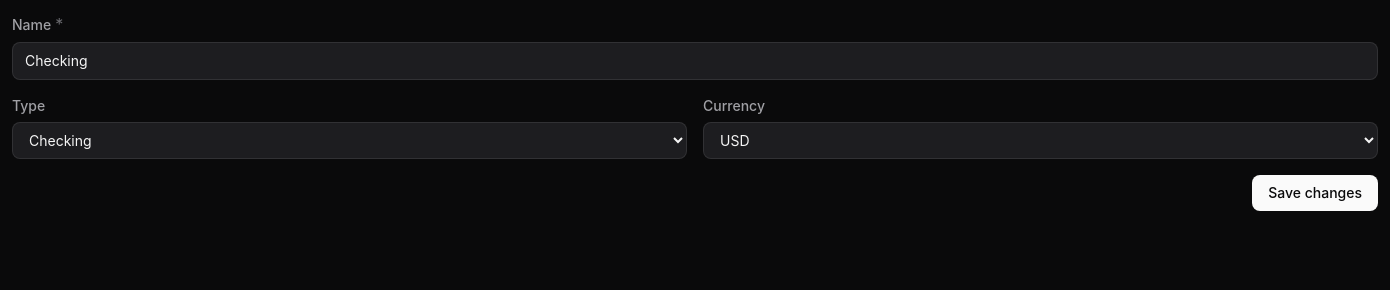
AccountForm — edit › shows a friendly error when changing currency conflicts with existing transactions (409)
This screenshot has width=1390, height=290.
Select "EUR" in the dropdown labelled "Currency": (1040, 140) [703, 122, 1378, 159]
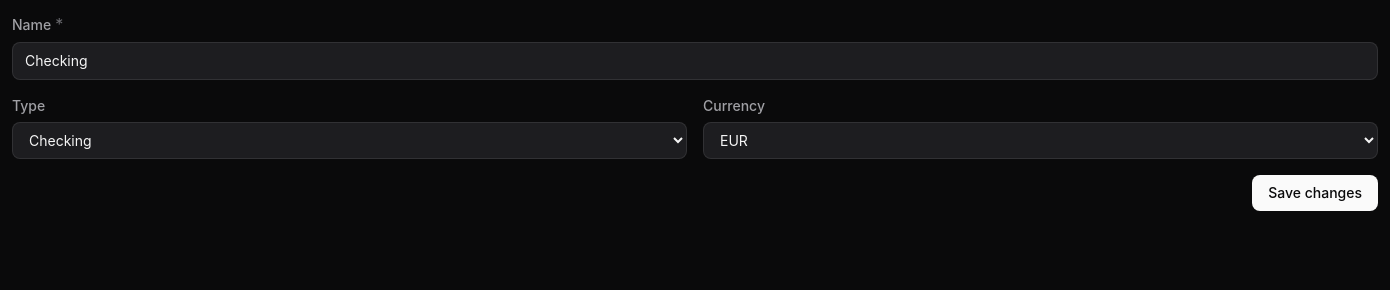
Click the button "Save changes": click(1315, 193) [1252, 175, 1378, 211]
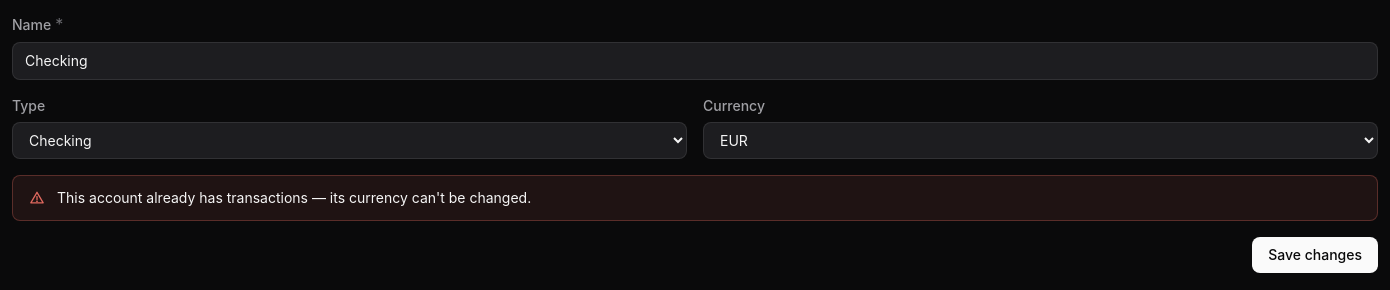
Check: the message shows "currency can't be changed", box [57, 189, 531, 206]
